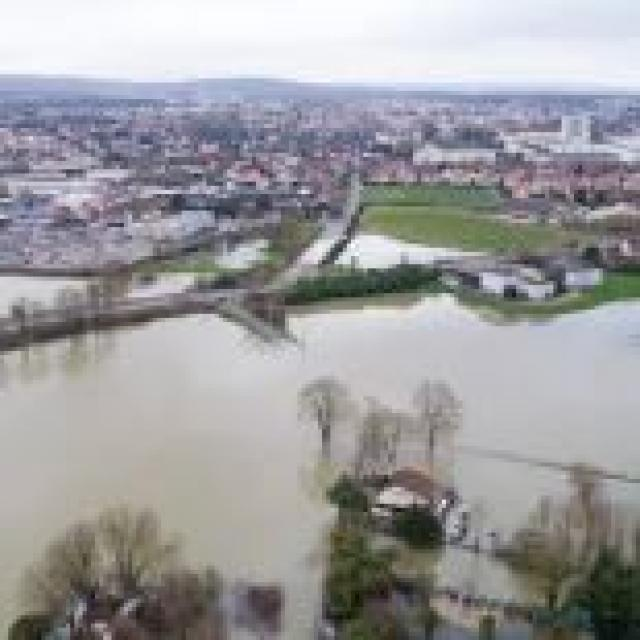flooded_areas: (0, 256, 632, 636)
